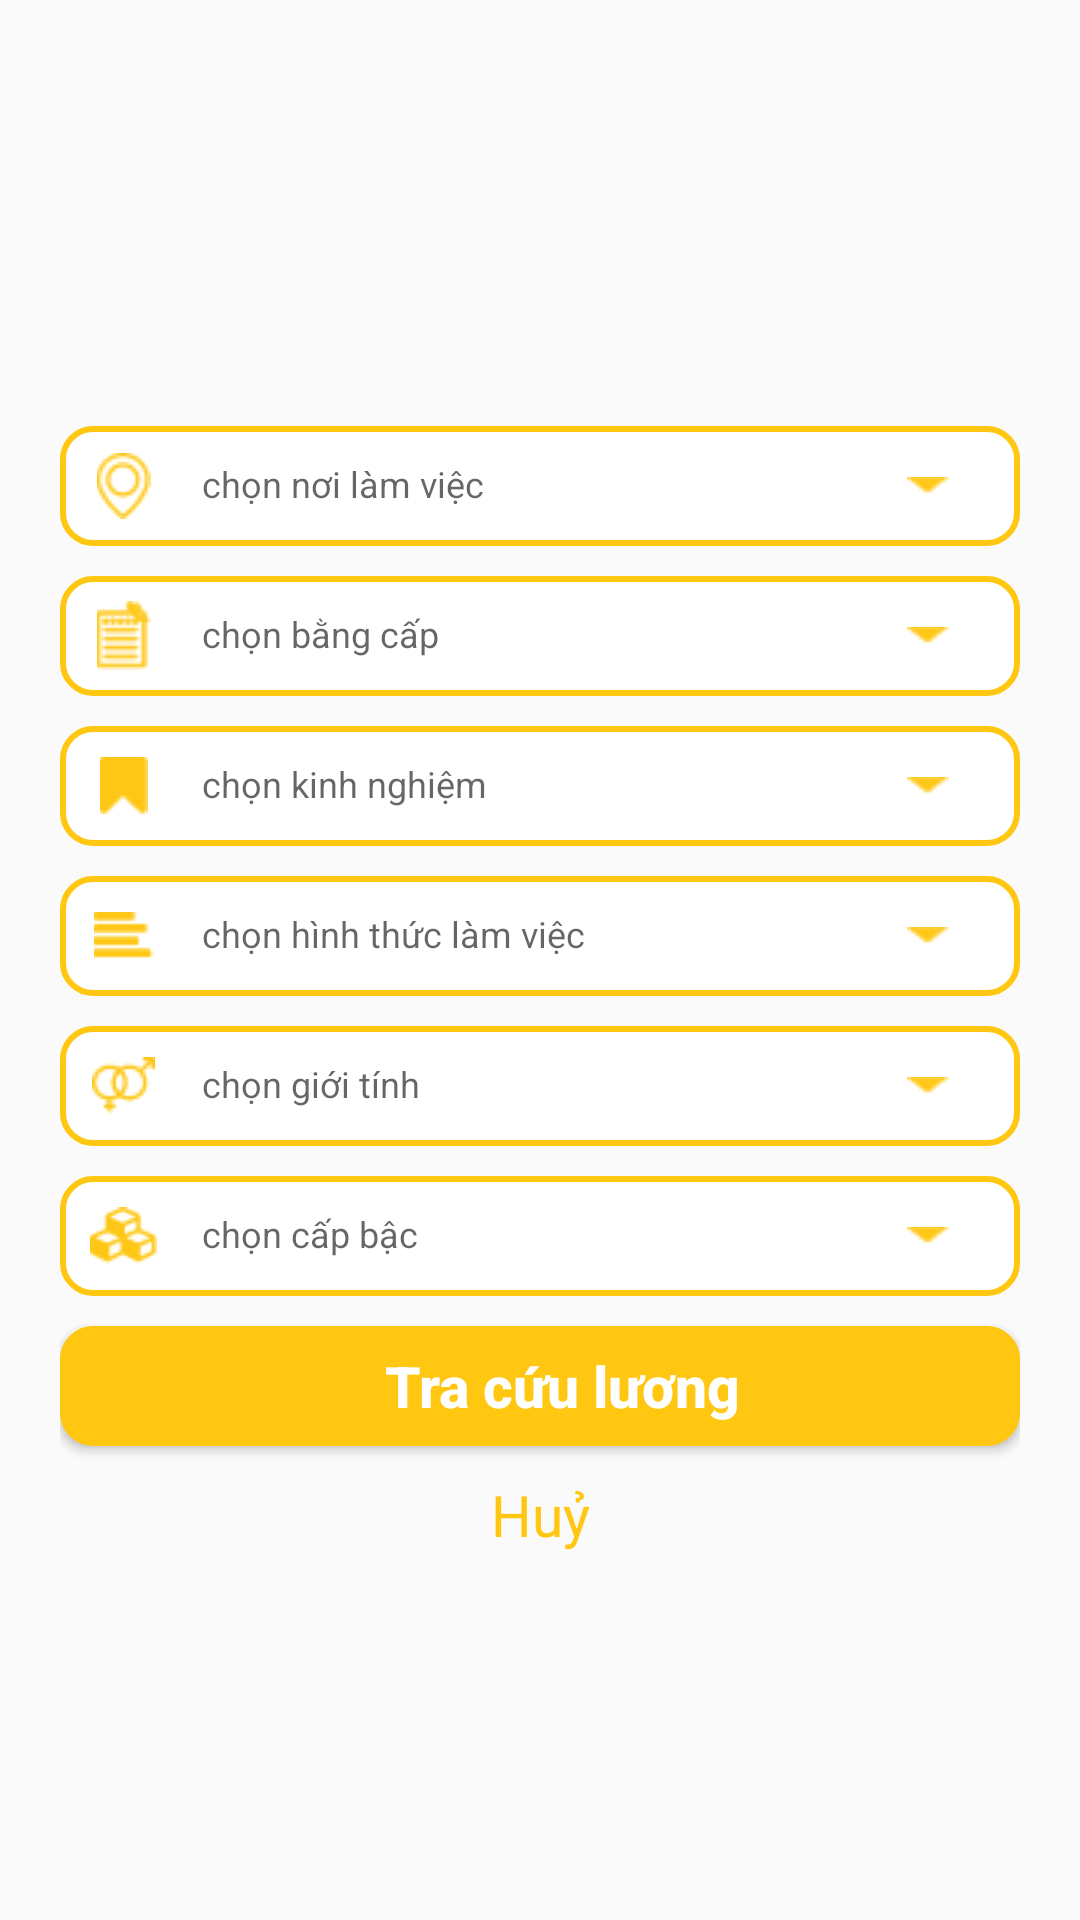

Where icons sit on this 1080x1920 app screen, as (x1, y1, x2, y2):
adress: (97, 453, 151, 519)
form: (94, 912, 154, 958)
gender: (92, 1057, 155, 1114)
